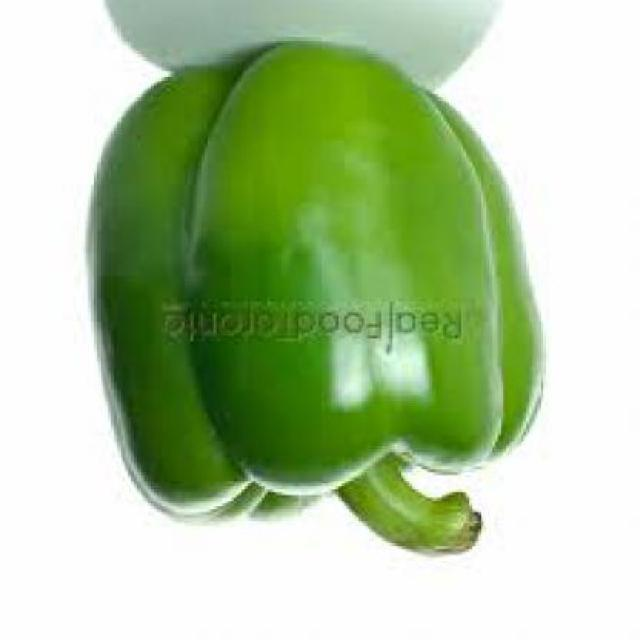BIODEGRADABLE: (94, 43, 549, 560)
